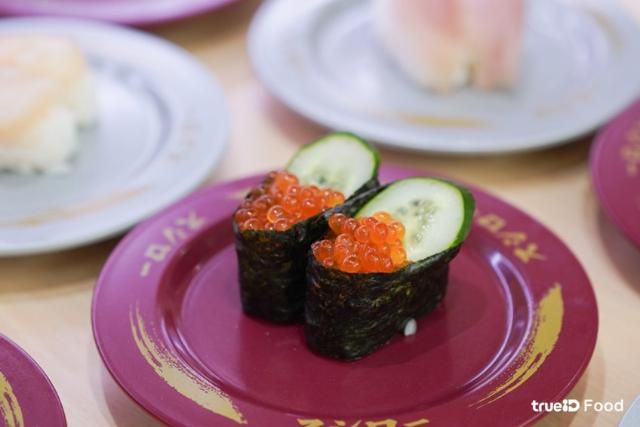janred: (104, 154, 588, 422), (587, 83, 640, 267), (0, 0, 234, 28), (0, 326, 63, 427)
janwhite: (239, 3, 621, 139), (0, 36, 200, 233)
